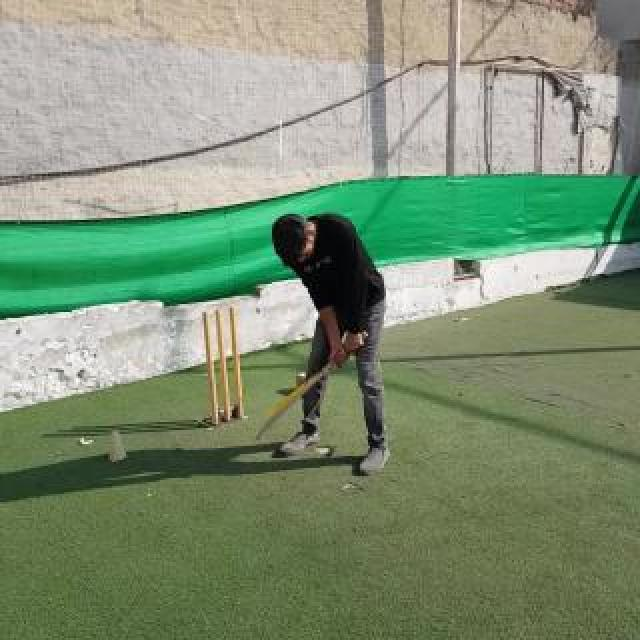bat: (254, 332, 368, 440)
